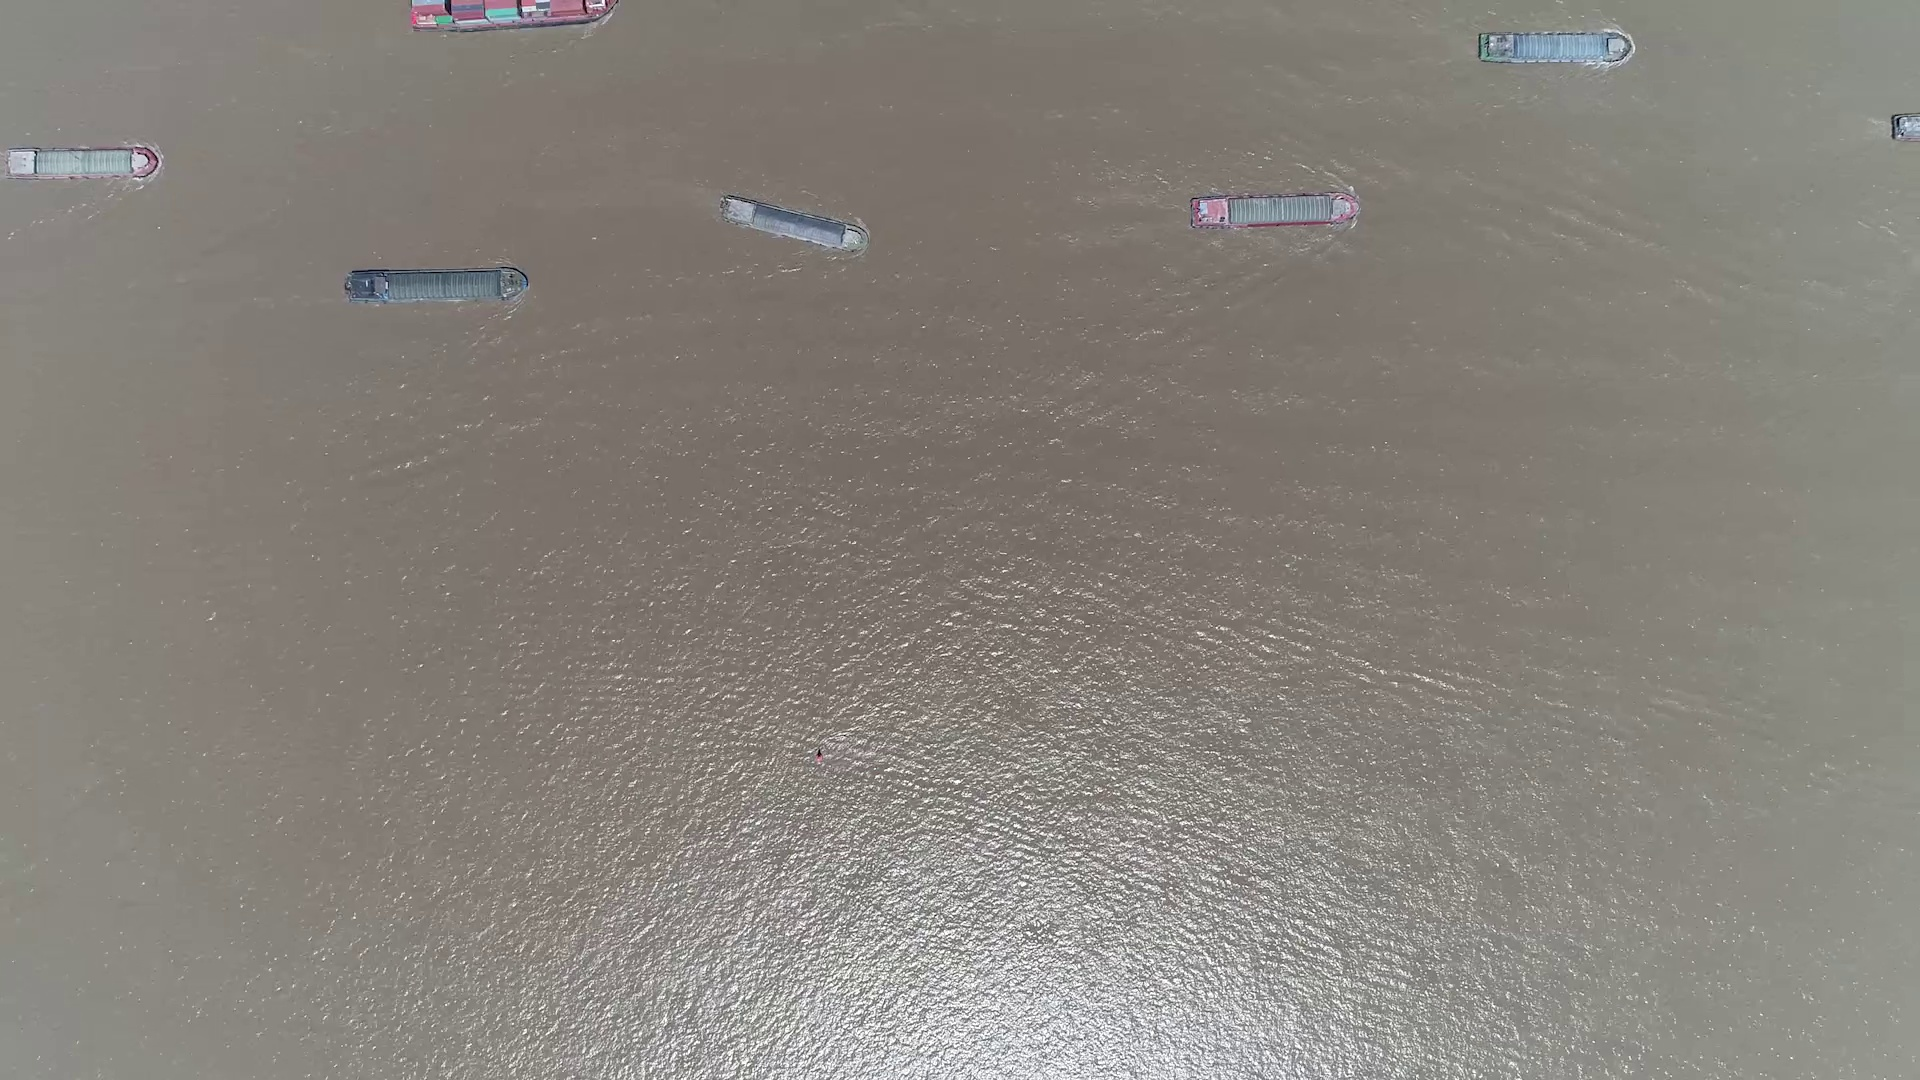ship: (716, 194, 866, 252), (344, 268, 524, 305), (1191, 193, 1362, 229), (407, 0, 615, 30), (1476, 32, 1633, 66), (3, 146, 158, 179)
